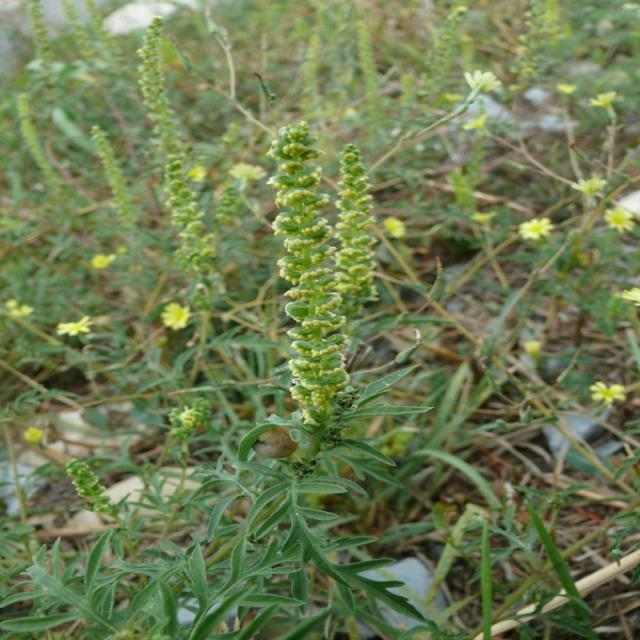ambrosia: (204, 110, 433, 481)
